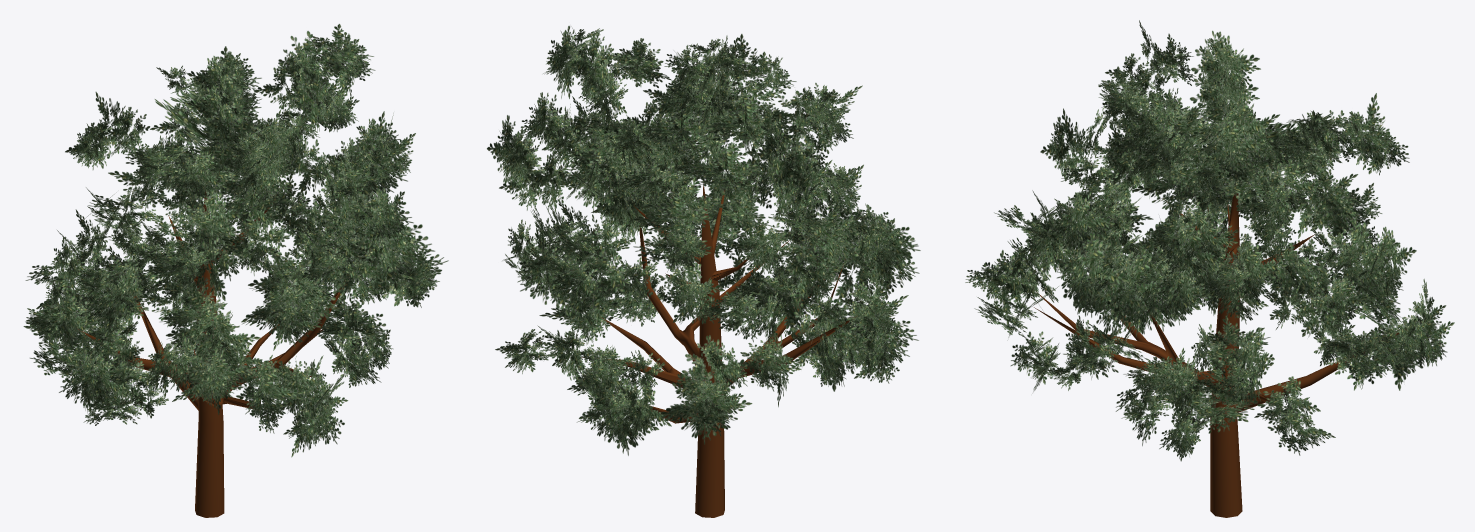
Rendered from tree3.glb.
3 views of the same model, side by side, from view 1: azimuth 30°, elevation 25°; view 2: azimuth 150°, elevation 25°; view 3: azimuth 270°, elevation 25° (orthographic). The views are drawn at different scales.
Parts seen in each view (by area): view 1: tree; view 2: tree; view 3: tree.
Part boxes in pixels (x1,y1,x2,y2): tree: (23,24,448,517); tree: (487,26,920,517); tree: (965,20,1454,517).
Size of the model in its own units: 12.69 by 13.85 by 12.84.
Materials: 2 (1 with a texture image).
